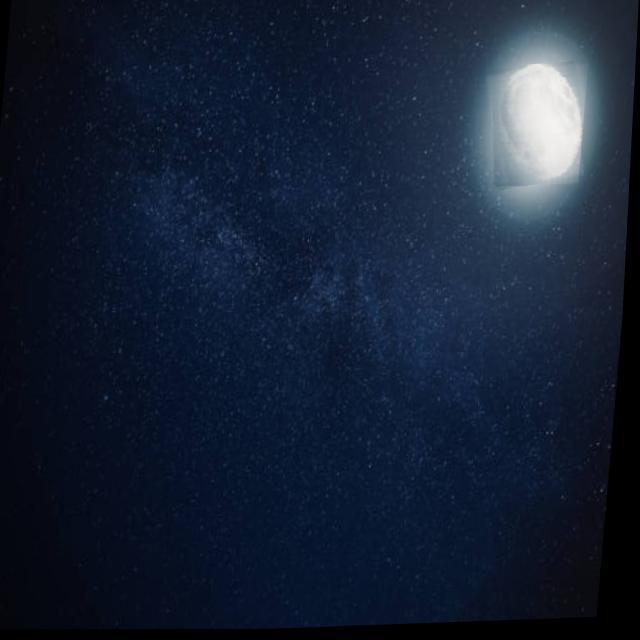moon: (483, 64, 589, 194)
